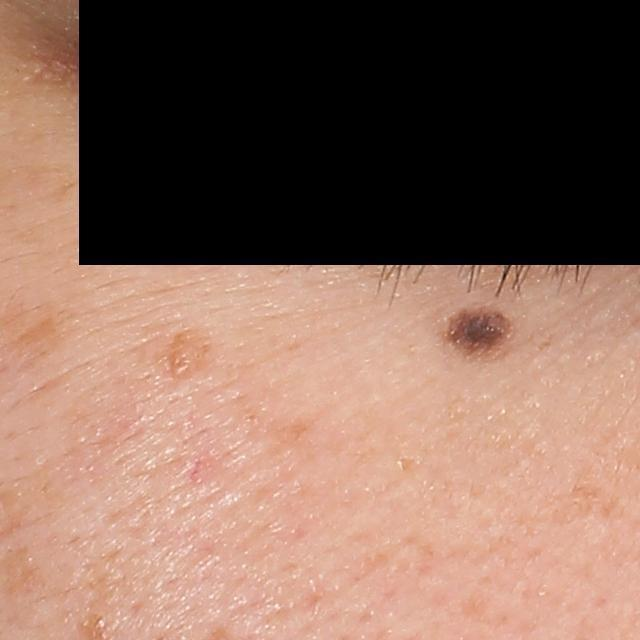nevus: (427, 303, 529, 365)
